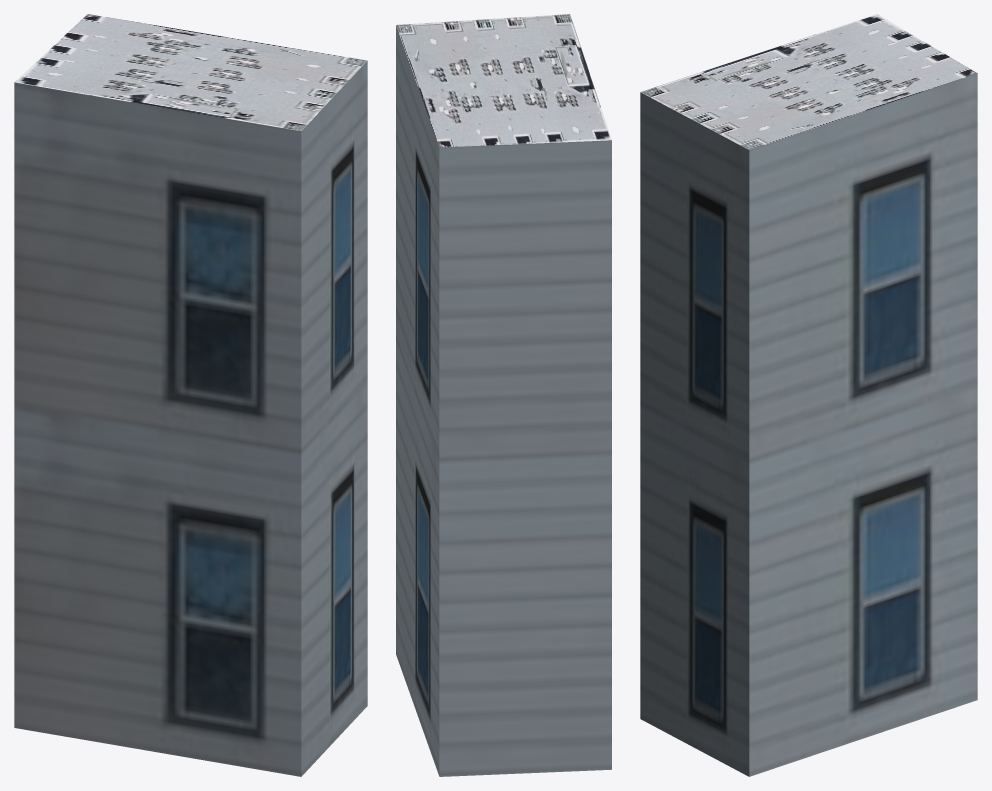
The model's file is ResTex__1559.fbx.
3 views of the same model, side by side, from view 1: azimuth 30°, elevation 25°; view 2: azimuth 150°, elevation 25°; view 3: azimuth 270°, elevation 25° (orthographic). The views are drawn at different scales.
Visible parts, largest first — view 1: CityEngineMaterial_18_m, CityEngineMaterial_4_m; view 2: CityEngineMaterial_18_m, CityEngineMaterial_4_m; view 3: CityEngineMaterial_18_m, CityEngineMaterial_4_m.
Part boxes in pixels (<box>): CityEngineMaterial_18_m: <box>14,61,367,776</box>; CityEngineMaterial_4_m: <box>14,14,367,131</box>; CityEngineMaterial_18_m: <box>396,25,611,776</box>; CityEngineMaterial_4_m: <box>396,14,611,147</box>; CityEngineMaterial_18_m: <box>640,73,977,776</box>; CityEngineMaterial_4_m: <box>640,14,977,149</box>.
Size of the model in its own units: 2.8 by 6 by 2.93.
Materials: 2 (2 with a texture image).
